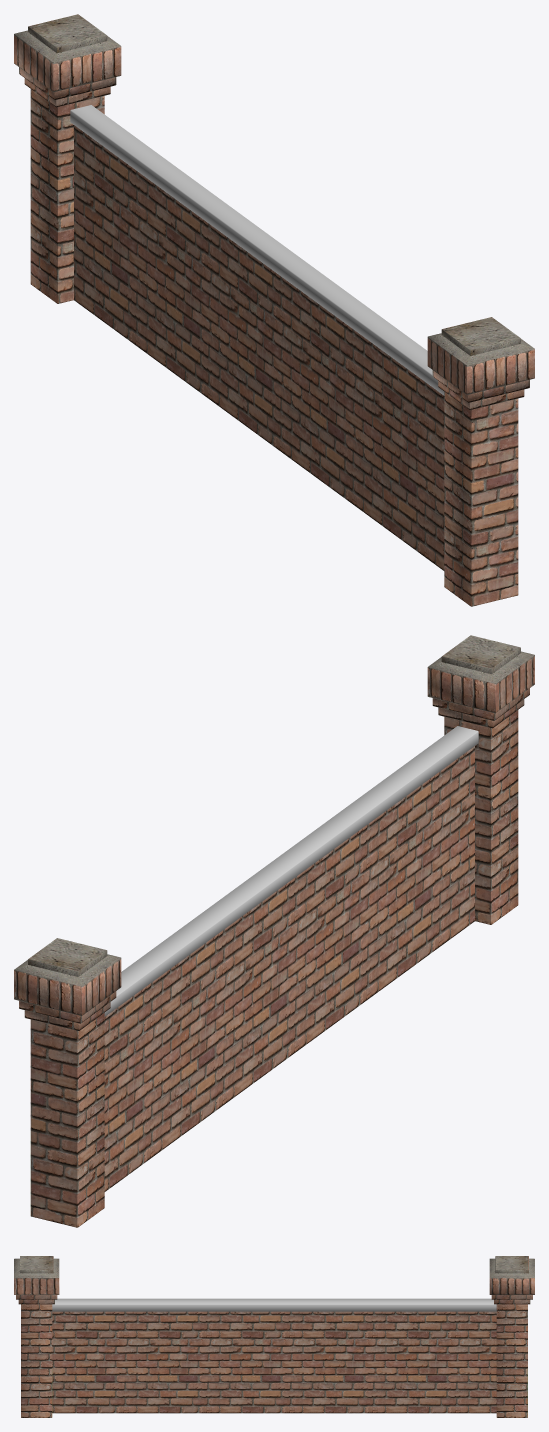
The model's file is brickwall06.FBX.
3 renders of one model, top to bottom at view 1: azimuth 30°, elevation 25°; view 2: azimuth 150°, elevation 25°; view 3: azimuth 270°, elevation 25°, orthographic. The views are drawn at different scales.
Parts seen in each view (by area): view 1: brick_wall_large_2_columns; view 2: brick_wall_large_2_columns; view 3: brick_wall_large_2_columns.
Part boxes in pixels (x1=…): brick_wall_large_2_columns: x1=14, y1=14, x2=534, y2=606; brick_wall_large_2_columns: x1=14, y1=635, x2=534, y2=1227; brick_wall_large_2_columns: x1=14, y1=1256, x2=534, y2=1417.
Bounding box in the file's own units: 84.11 × 303 × 965.
